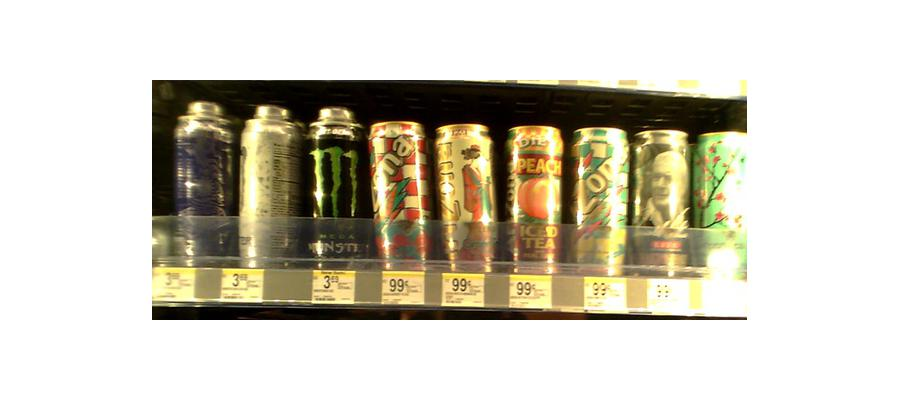bottle: (170, 100, 235, 268), (239, 104, 303, 268), (435, 124, 501, 271), (305, 108, 365, 266), (371, 120, 432, 269), (507, 123, 566, 271), (635, 126, 692, 273), (572, 125, 626, 275), (698, 127, 746, 281)
